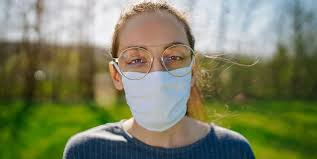mask: (103, 2, 200, 135)
